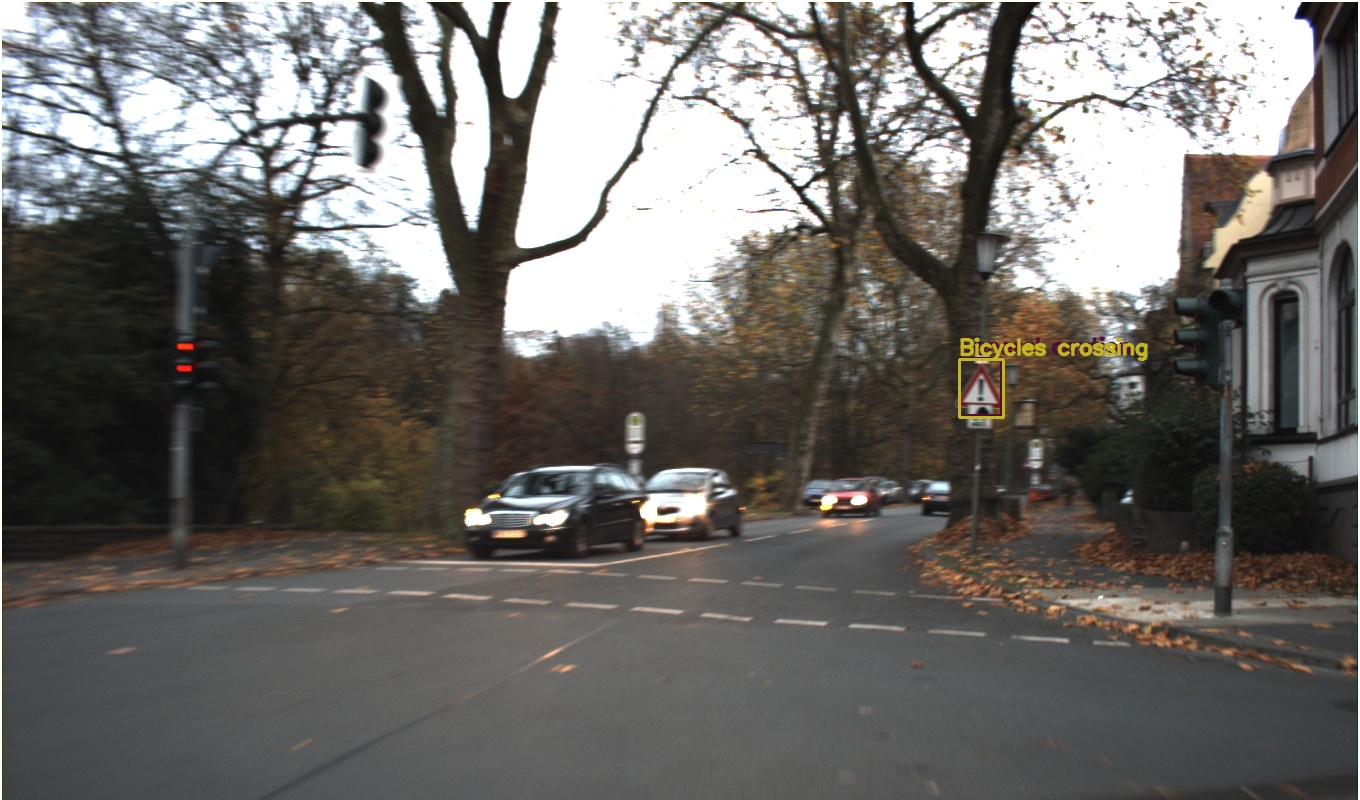Speed limit (80km/h): (886, 446, 911, 472), (312, 442, 337, 467)
